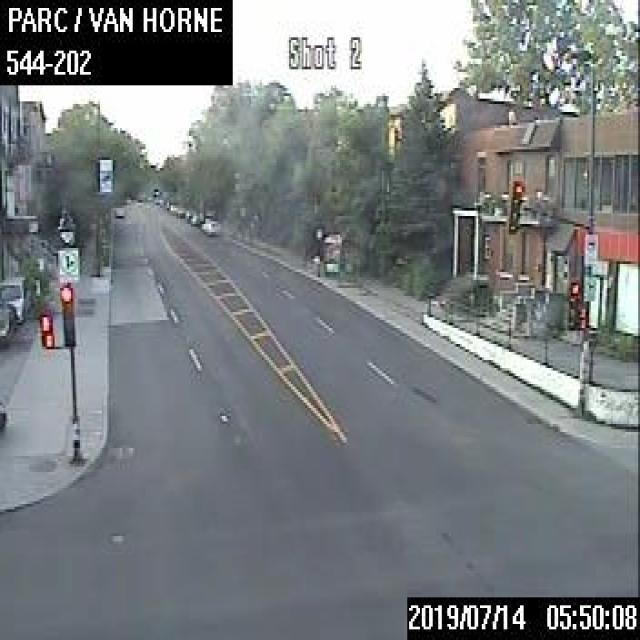vehicle: (0, 272, 29, 323), (0, 304, 16, 346), (200, 217, 218, 234), (190, 211, 202, 223), (183, 206, 193, 220), (174, 205, 184, 215)
